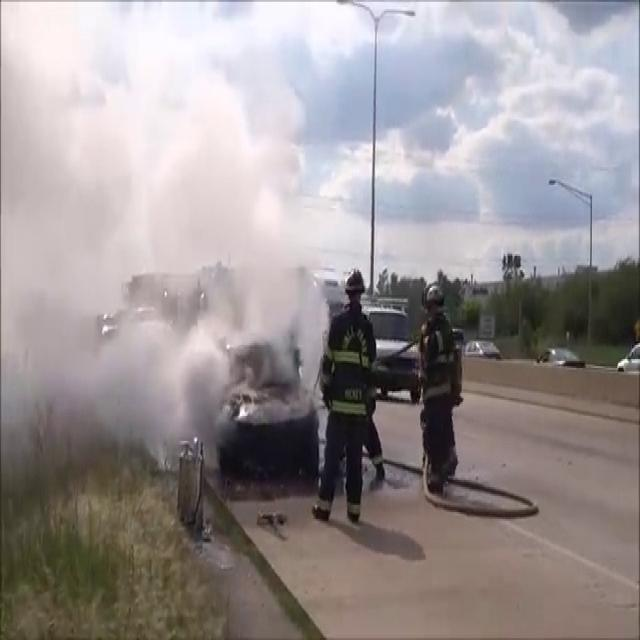Smoke: (1, 2, 334, 452)
